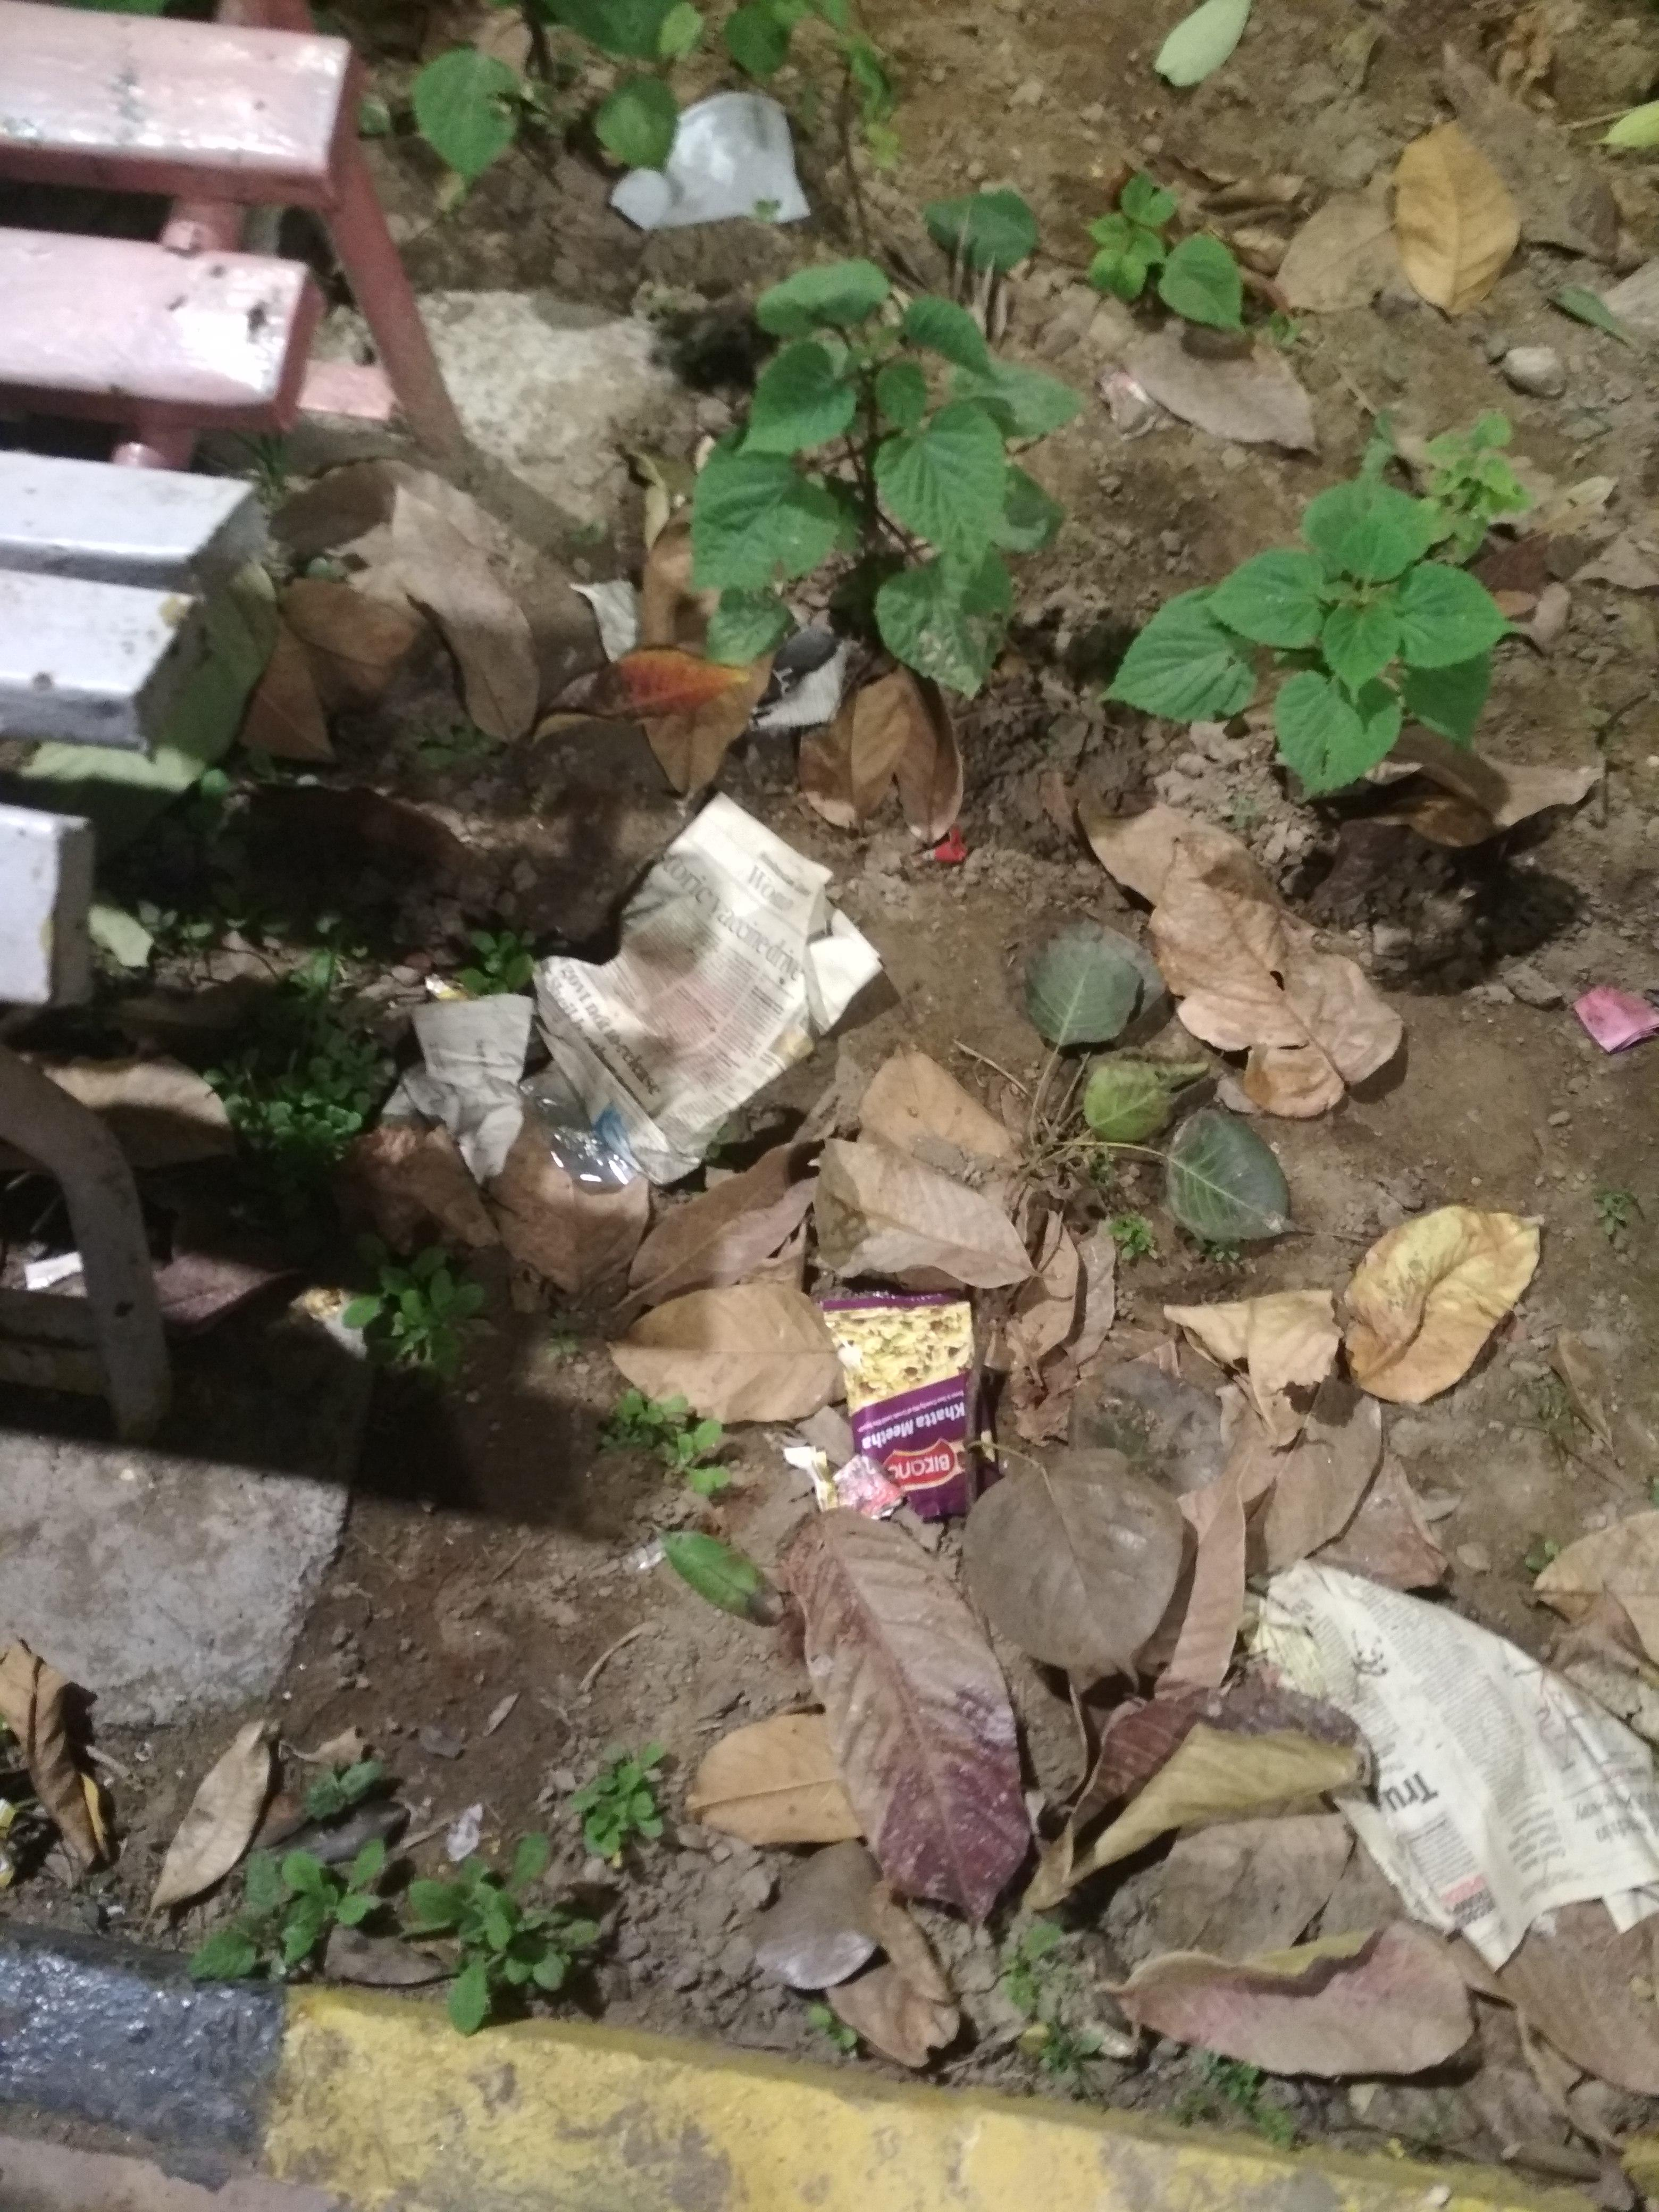trash: (359, 777, 1654, 1987)
